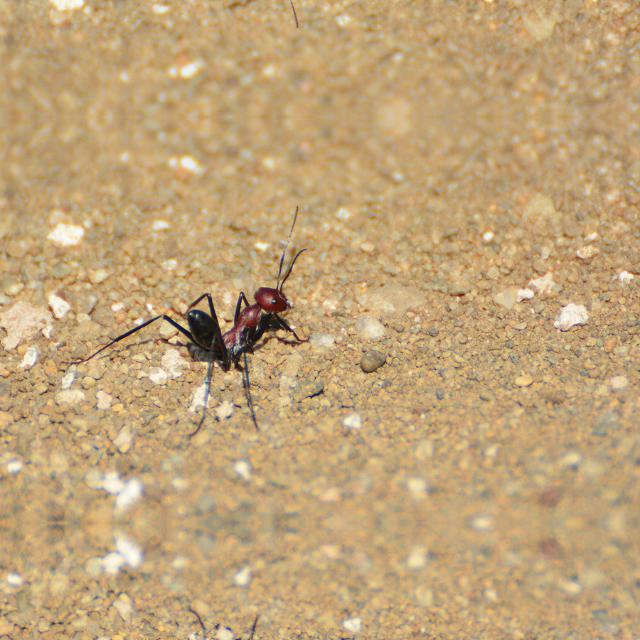Cataglyphis: (162, 272, 318, 376)
